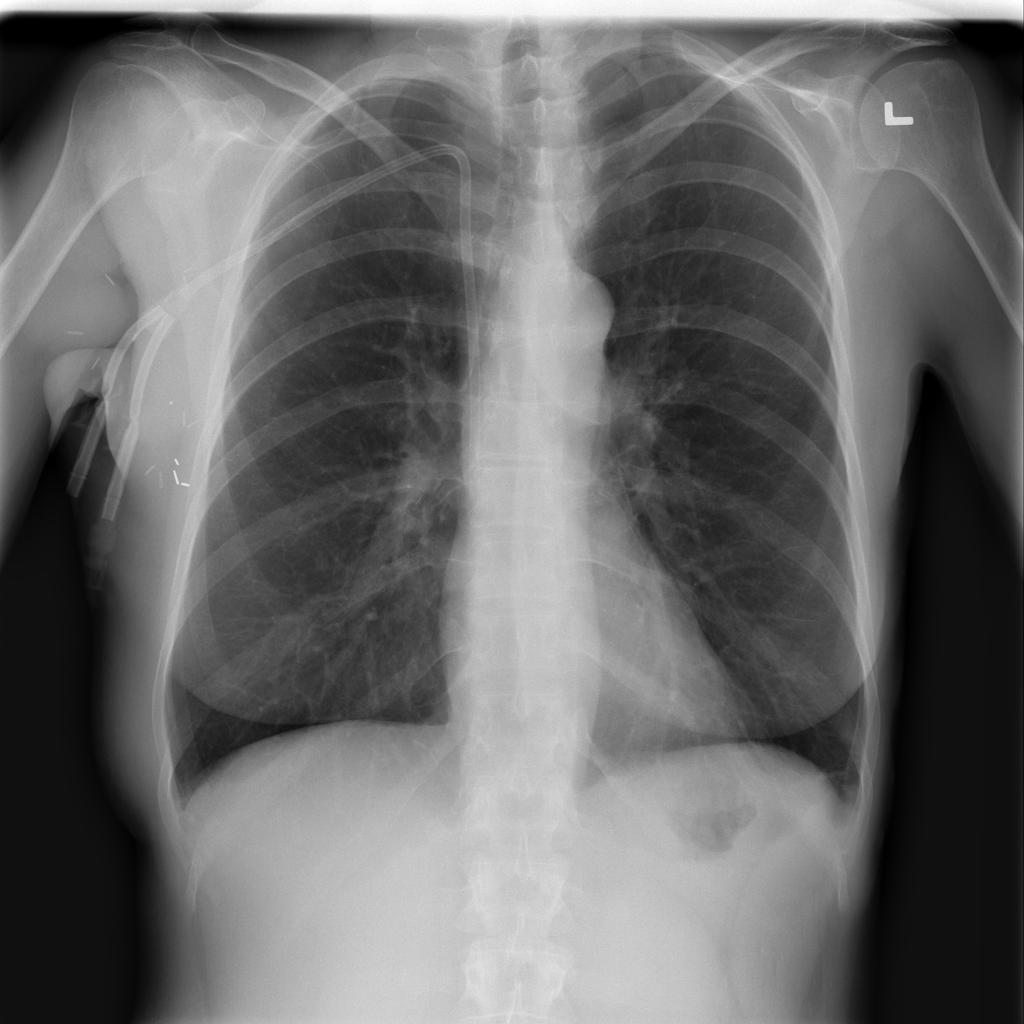nodule: (297, 535, 347, 587)
